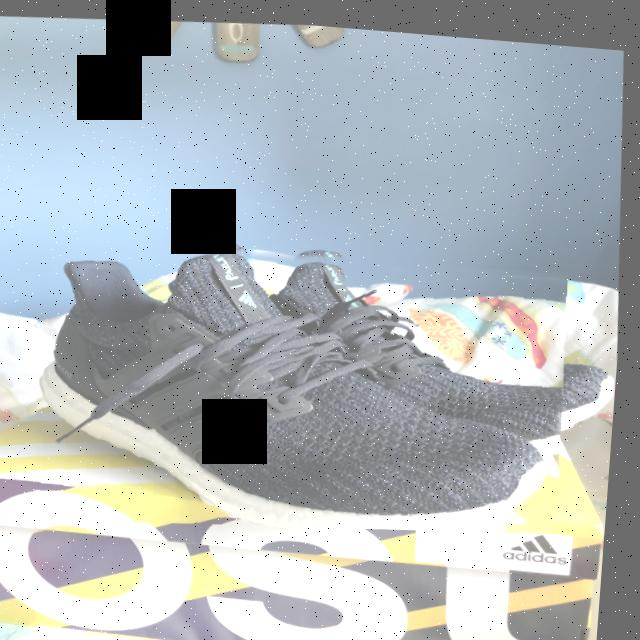shoe: (27, 207, 586, 551)
